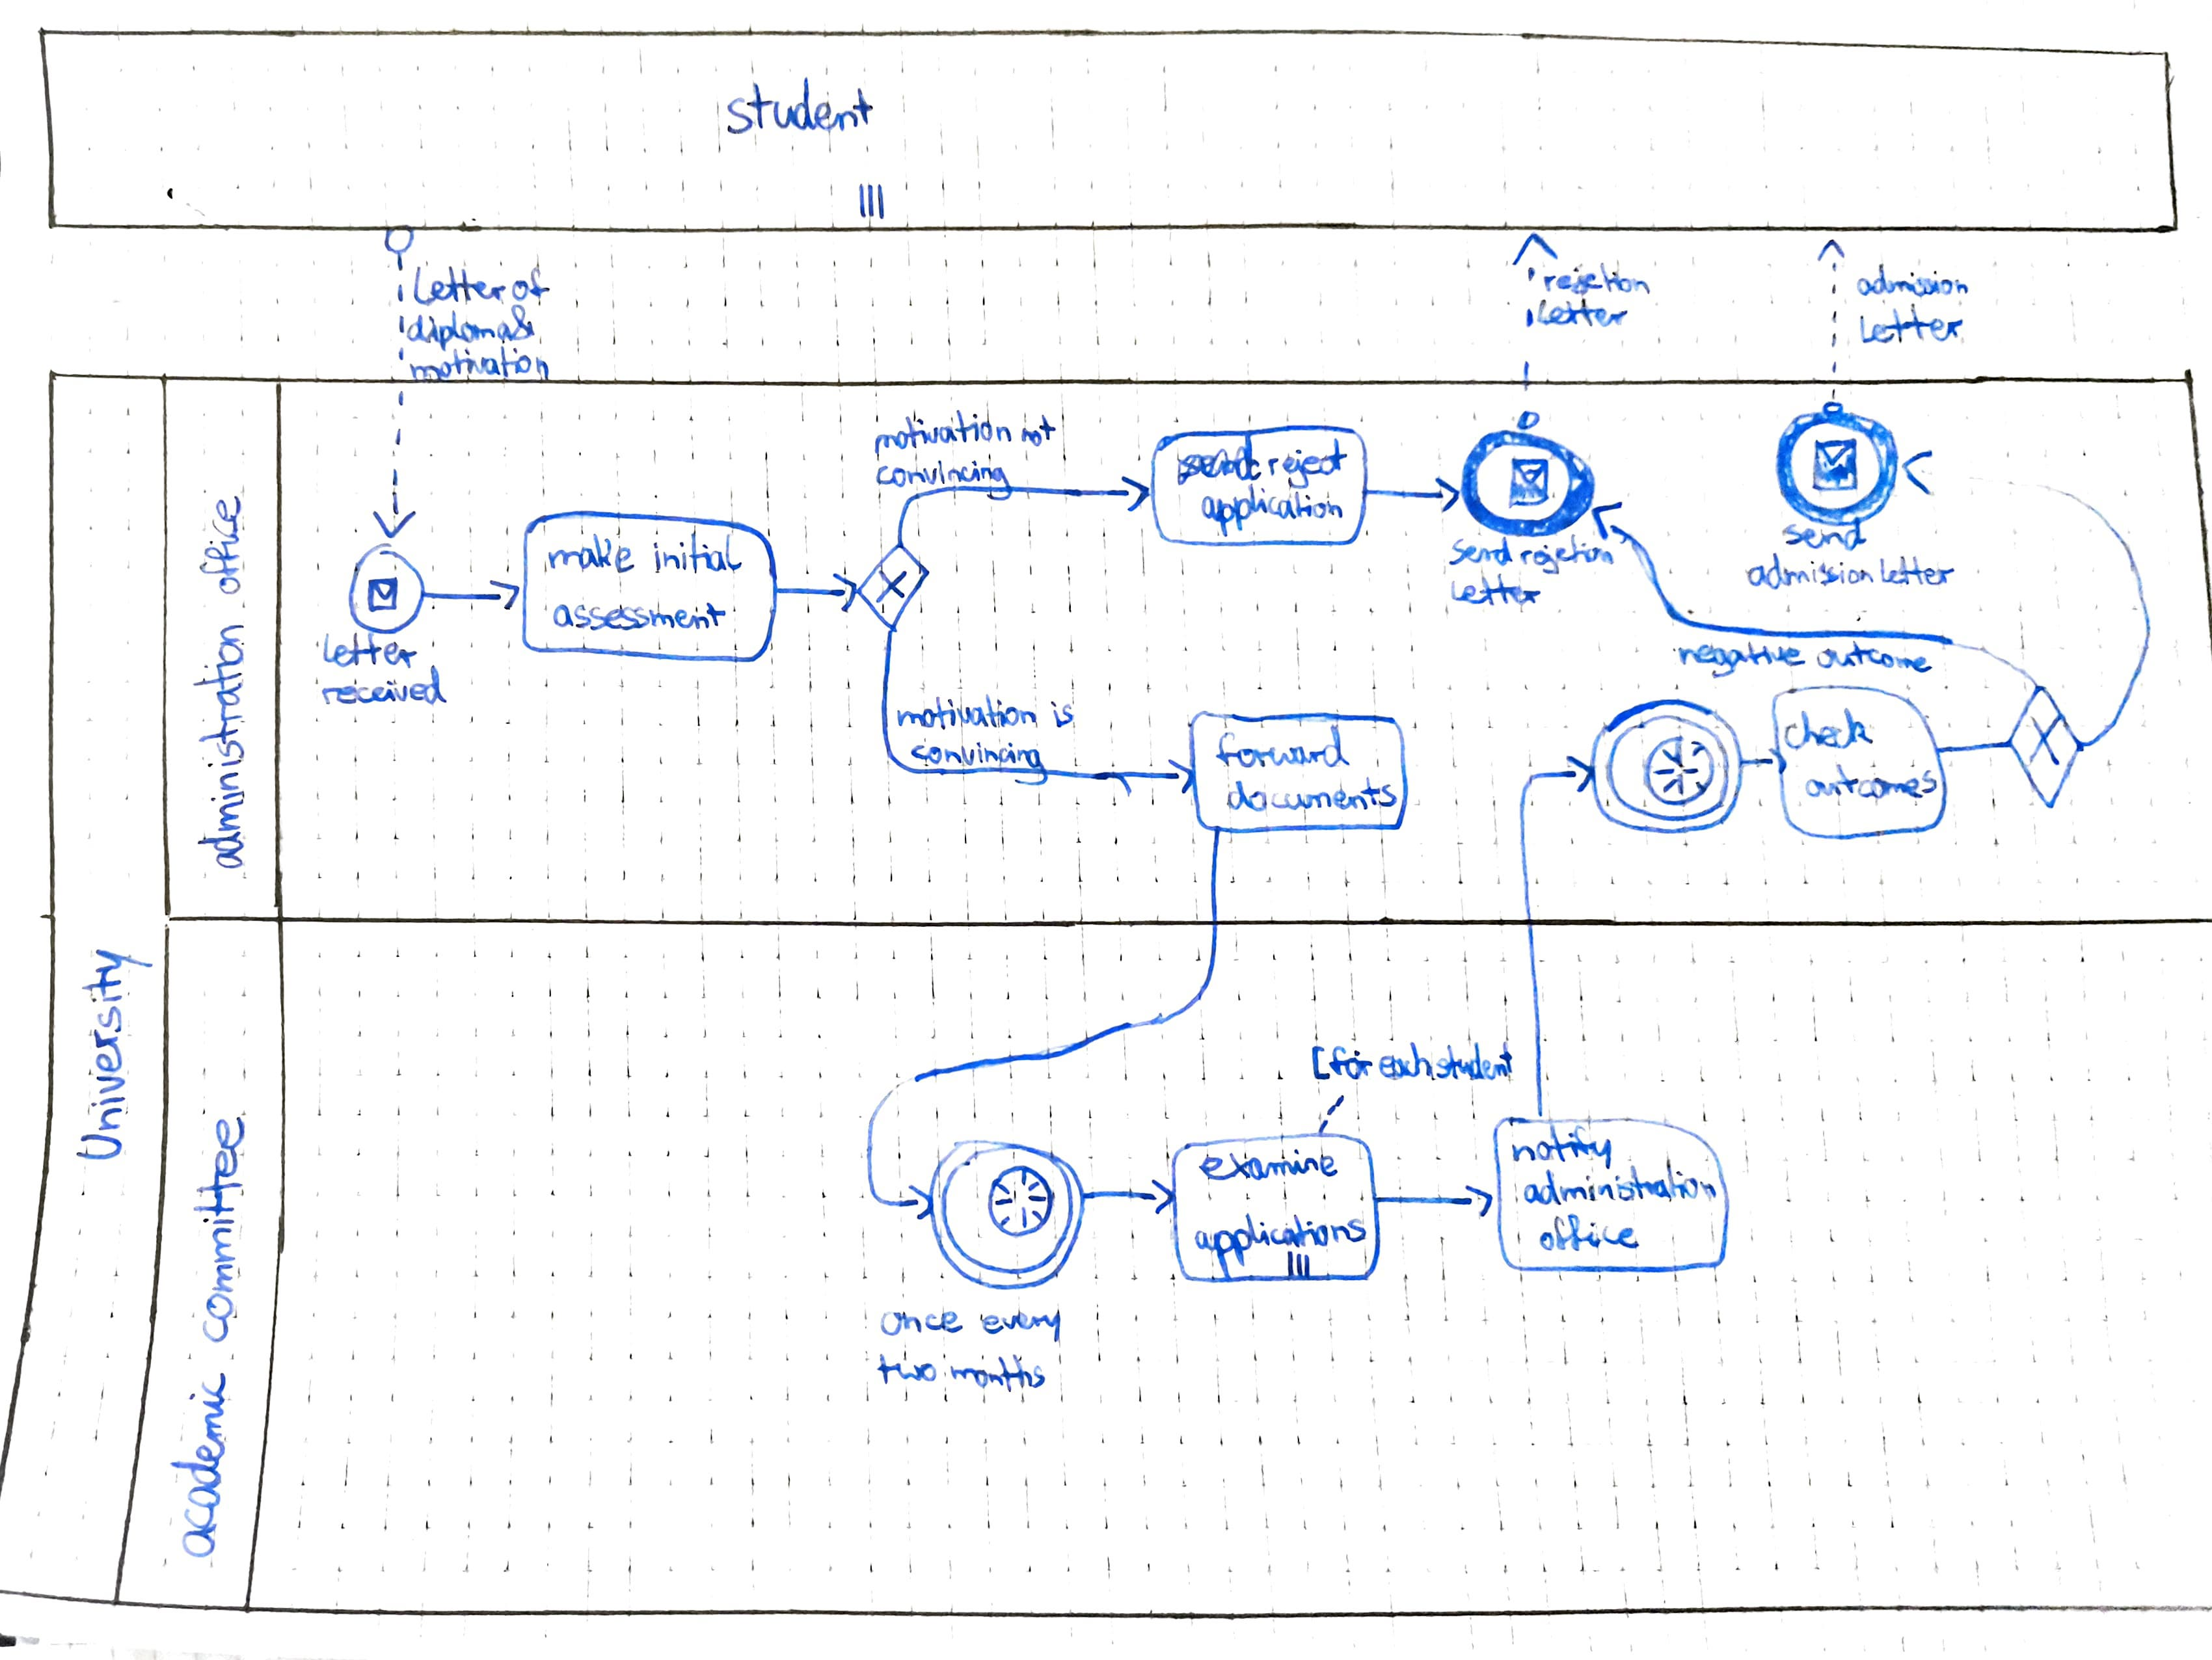&: (509, 302, 536, 343)
III: (855, 172, 889, 217), (1278, 1248, 1317, 1283)
Letter: (1849, 309, 1968, 353), (1534, 294, 1632, 332), (1445, 575, 1546, 609)
University: (72, 948, 139, 1161)
academic: (165, 1372, 237, 1556)
administration: (196, 610, 253, 880), (1520, 1164, 1716, 1214)
admission: (1846, 249, 1972, 305), (1746, 556, 1865, 593)
application: (1196, 488, 1345, 532)
applications: (1192, 1211, 1369, 1266)
assessment: (556, 601, 727, 635)
check: (1780, 710, 1875, 751)
committee: (183, 1108, 253, 1349)
convincing: (874, 452, 1015, 496), (911, 740, 1045, 772)
diploma: (405, 310, 509, 353)
documents: (1230, 780, 1401, 816)
each: (1379, 1042, 1429, 1083)
every: (984, 1304, 1065, 1341)
examine: (1204, 1145, 1340, 1191)
for: (1325, 1043, 1363, 1086)
forward: (1217, 731, 1353, 773)
initial: (645, 539, 745, 578)
is: (1045, 699, 1076, 731)
letter: (401, 265, 498, 310), (316, 636, 424, 672), (1870, 555, 1961, 593)
make: (547, 539, 640, 579)
months: (956, 1354, 1050, 1401)
motivation: (873, 410, 1005, 462), (893, 695, 1040, 734), (409, 350, 545, 384)
negative: (1675, 641, 1809, 678)
not: (1012, 409, 1062, 453)
notify: (1516, 1129, 1615, 1170)
of: (506, 265, 548, 310)
office: (198, 492, 250, 601), (1537, 1215, 1640, 1257)
once: (874, 1305, 970, 1341)
outcome: (1816, 642, 1940, 682)
outcomes: (1801, 764, 1941, 809)
received: (321, 676, 448, 712)
reject: (1259, 444, 1347, 485)
rejection: (1540, 262, 1657, 301), (1517, 532, 1628, 574)
send: (1785, 518, 1868, 552), (1448, 539, 1511, 574)
student: (720, 84, 878, 171), (1429, 1044, 1513, 1086)
two: (874, 1352, 950, 1396)
